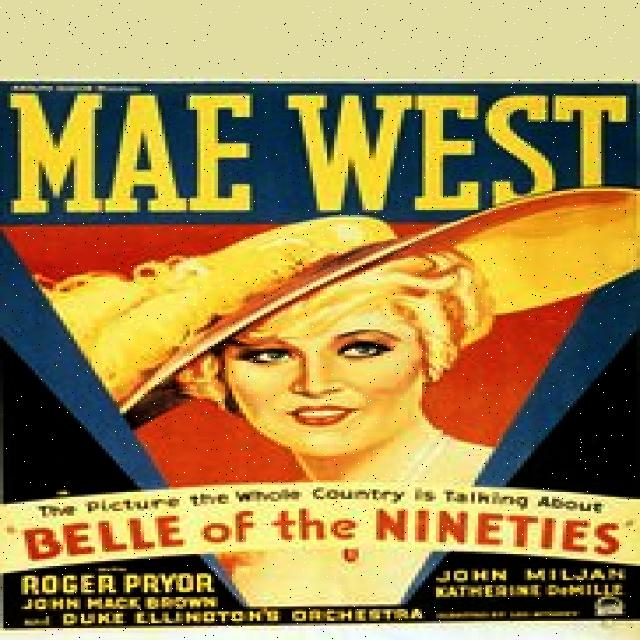movie-judul: (0, 508, 640, 560)
picture: (4, 215, 640, 486)
